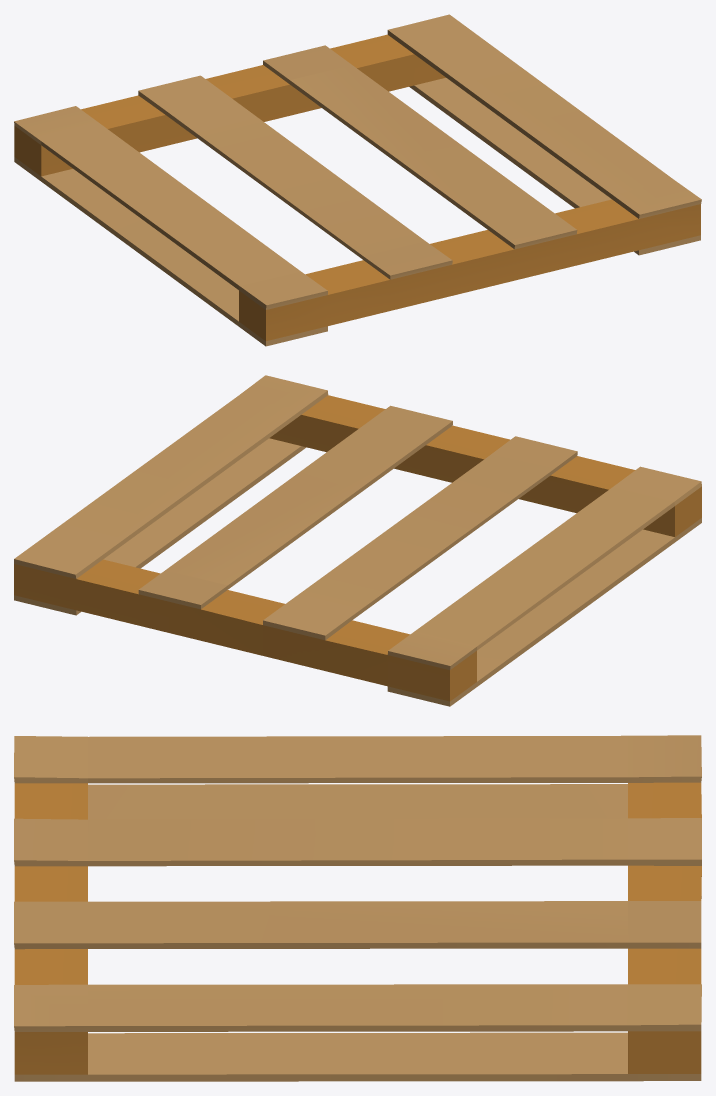
Rendered from Small Single Pallet Light.fbx.
The picture shows the model from 3 angles, top to bottom: view 1: azimuth 30°, elevation 25°; view 2: azimuth 150°, elevation 25°; view 3: azimuth 270°, elevation 25°; orthographic projection. The views are drawn at different scales.
Parts seen in each view (by area): view 1: Small Single Pallet Light; view 2: Small Single Pallet Light; view 3: Small Single Pallet Light.
Boxes of the visible parts, x1,y1,x2,y2 form: Small Single Pallet Light: (14, 14, 701, 346); Small Single Pallet Light: (14, 375, 701, 706); Small Single Pallet Light: (14, 735, 701, 1081).
Bounding box in the file's own units: 24.32 × 266 × 266.
Materials: 1 (1 with a texture image).
